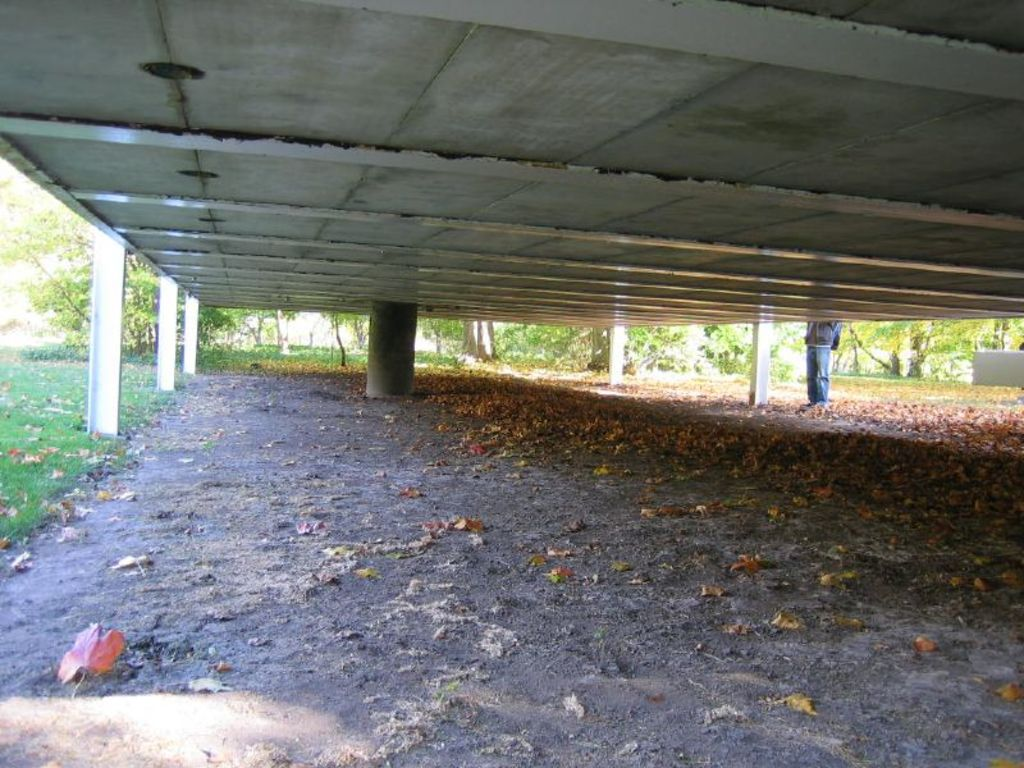Tree: (10, 206, 156, 355), (789, 314, 986, 380), (209, 304, 300, 344), (456, 318, 500, 360), (591, 323, 631, 367), (986, 312, 1022, 348)
